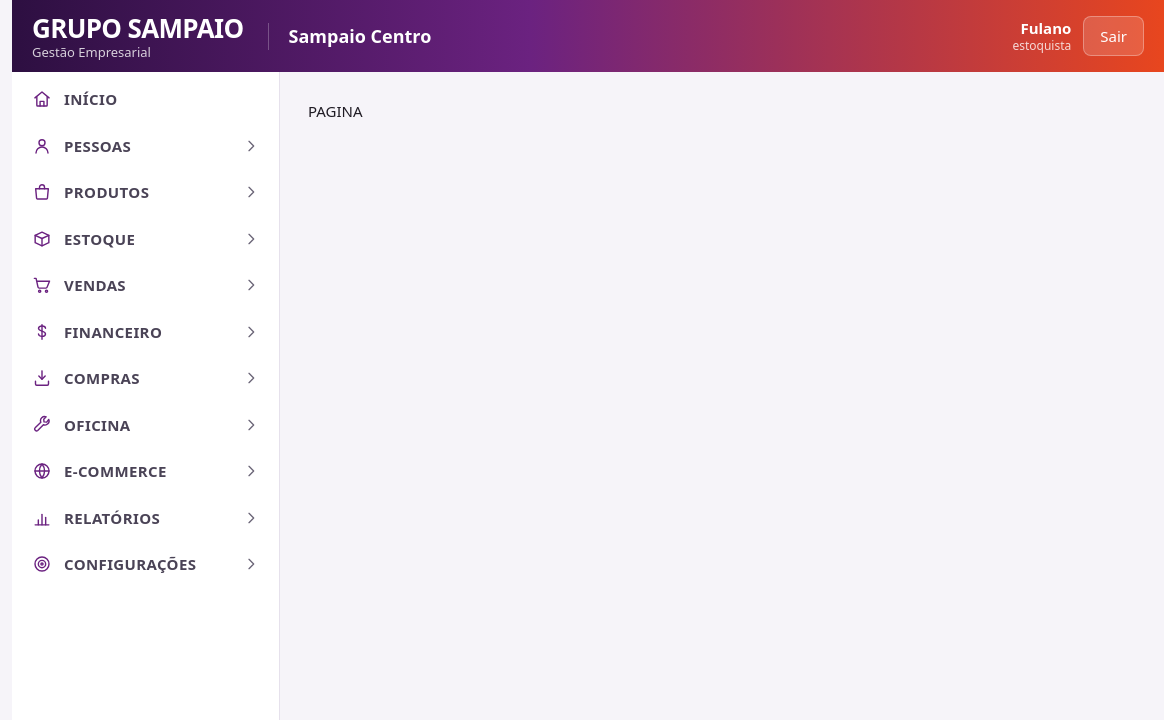
it: o filtro novo não é tesoura › grupo em que o estoquista ainda tem o que clicar continua aparecendo
Click the button "Configurações" at (146, 564), box [12, 541, 279, 588]
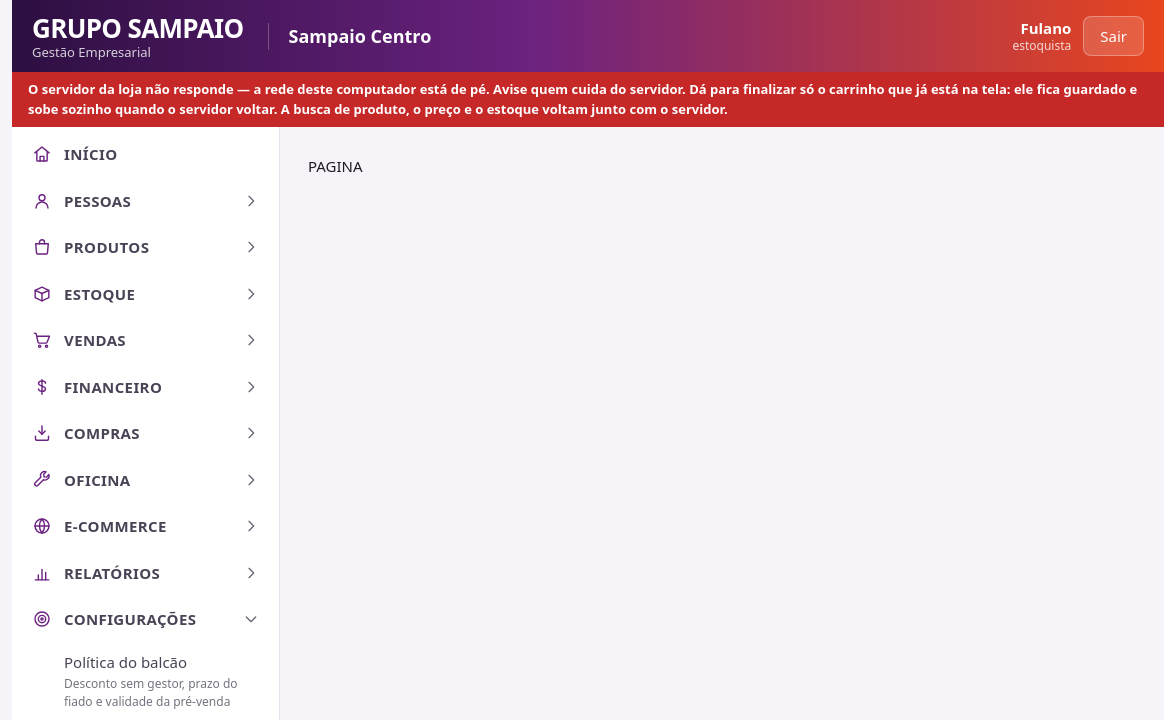
Expected: the text "Política do balcão" is shown, [64, 652, 187, 672]
